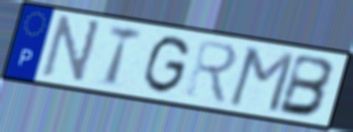B: (276, 52, 337, 119)
G: (140, 34, 192, 97)
M: (226, 45, 298, 115)
N: (38, 13, 105, 87)
R: (183, 37, 240, 107)
T: (104, 23, 145, 89)
